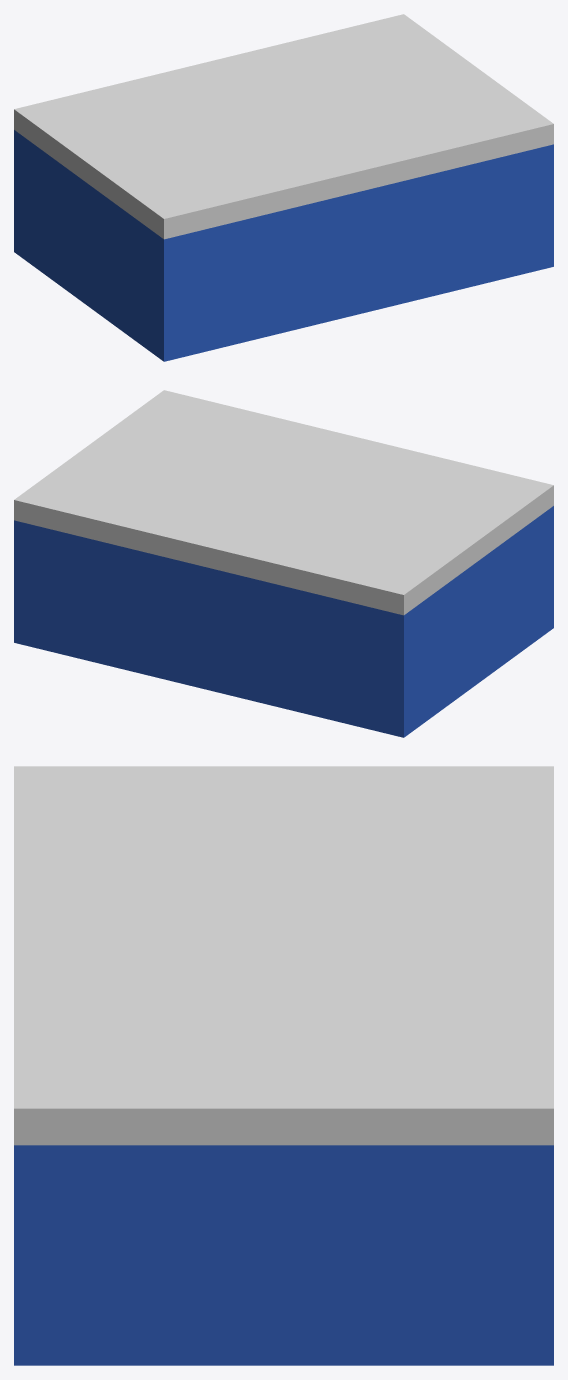
The model's file is enclosure.glb.
3 views of the same model, one above another, from view 1: azimuth 30°, elevation 25°; view 2: azimuth 150°, elevation 25°; view 3: azimuth 270°, elevation 25° (orthographic). The views are drawn at different scales.
Visible parts, largest first — view 1: lid, base; view 2: lid, base; view 3: lid, base.
Part boxes in pixels (bbox=[...]): lid: bbox=[14, 14, 553, 239]; base: bbox=[14, 130, 553, 361]; lid: bbox=[14, 390, 553, 615]; base: bbox=[14, 506, 553, 737]; lid: bbox=[14, 766, 553, 1145]; base: bbox=[14, 1145, 553, 1365].
Bounding box in the file's own units: 0.06 × 0.021 × 0.04.
